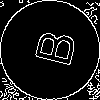B: (25, 25, 78, 68)
